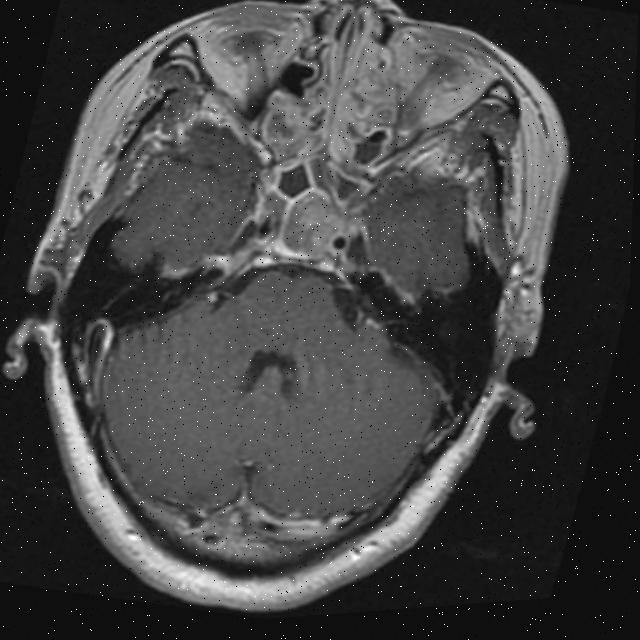Pituitary: (269, 178, 344, 266)
